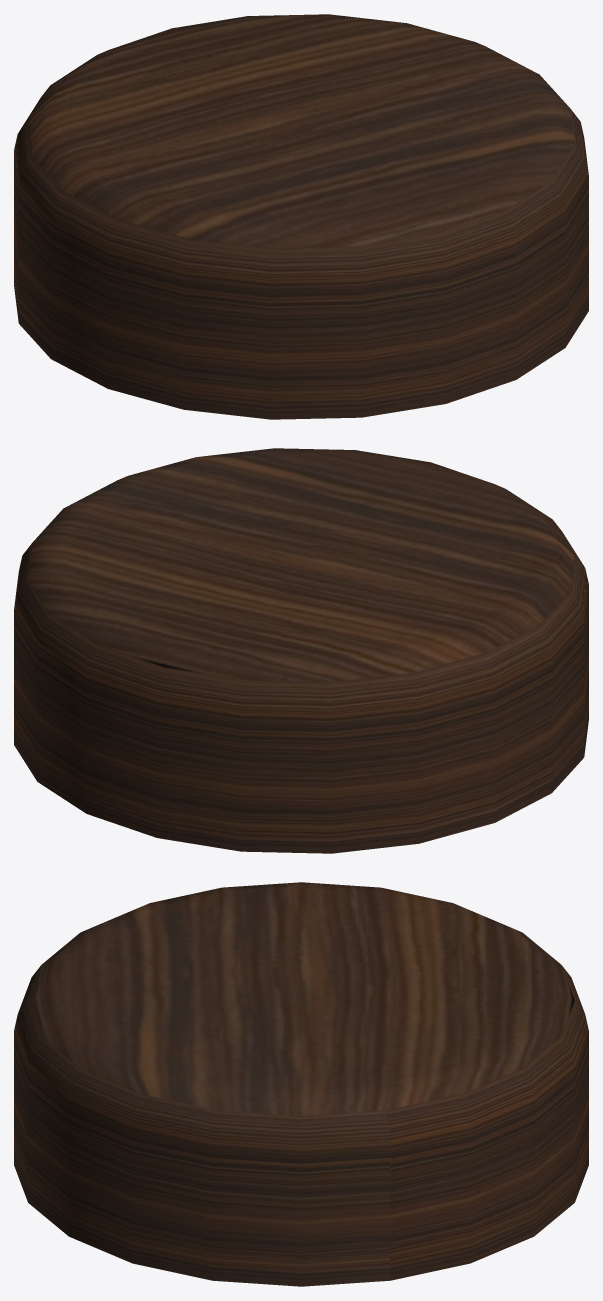
Rendered from centerCircle.fbx.
3 views of the same model, one above another, from view 1: azimuth 30°, elevation 25°; view 2: azimuth 150°, elevation 25°; view 3: azimuth 270°, elevation 25° (orthographic).
Parts seen in each view (by area): view 1: CentroMesa; view 2: CentroMesa; view 3: CentroMesa.
Boxes of the visible parts, left/top/right/bottom form: CentroMesa: left=14, top=14, right=588, bottom=419; CentroMesa: left=14, top=448, right=588, bottom=853; CentroMesa: left=14, top=882, right=588, bottom=1286.
Bounding box in the file's own units: 54.1 × 18.4 × 54.1.
